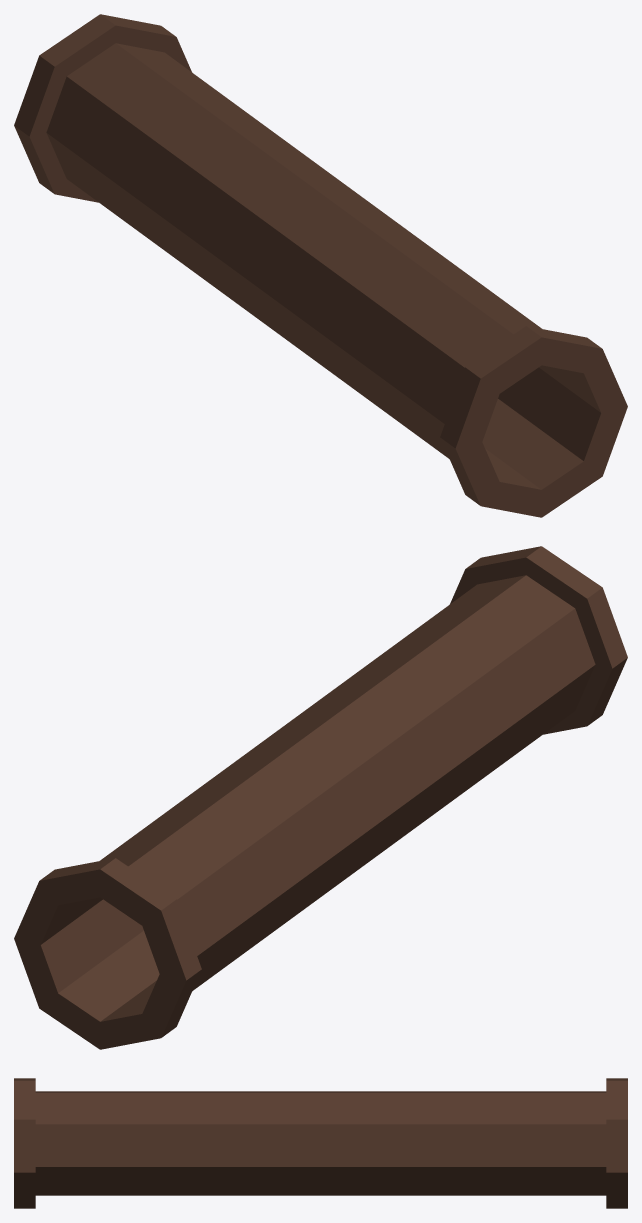
Rendered from Pipeline3.fbx.
The picture shows the model from 3 angles, top to bottom: view 1: azimuth 30°, elevation 25°; view 2: azimuth 150°, elevation 25°; view 3: azimuth 270°, elevation 25°; orthographic projection. The views are drawn at different scales.
Visible parts, largest first — view 1: Circle.005; view 2: Circle.005; view 3: Circle.005.
Boxes of the visible parts, x1,y1,x2,y2 form: Circle.005: (14, 14, 627, 517); Circle.005: (14, 546, 627, 1049); Circle.005: (14, 1078, 627, 1208).
Bounding box in the file's own units: 0.6482 × 0.6482 × 2.88.
